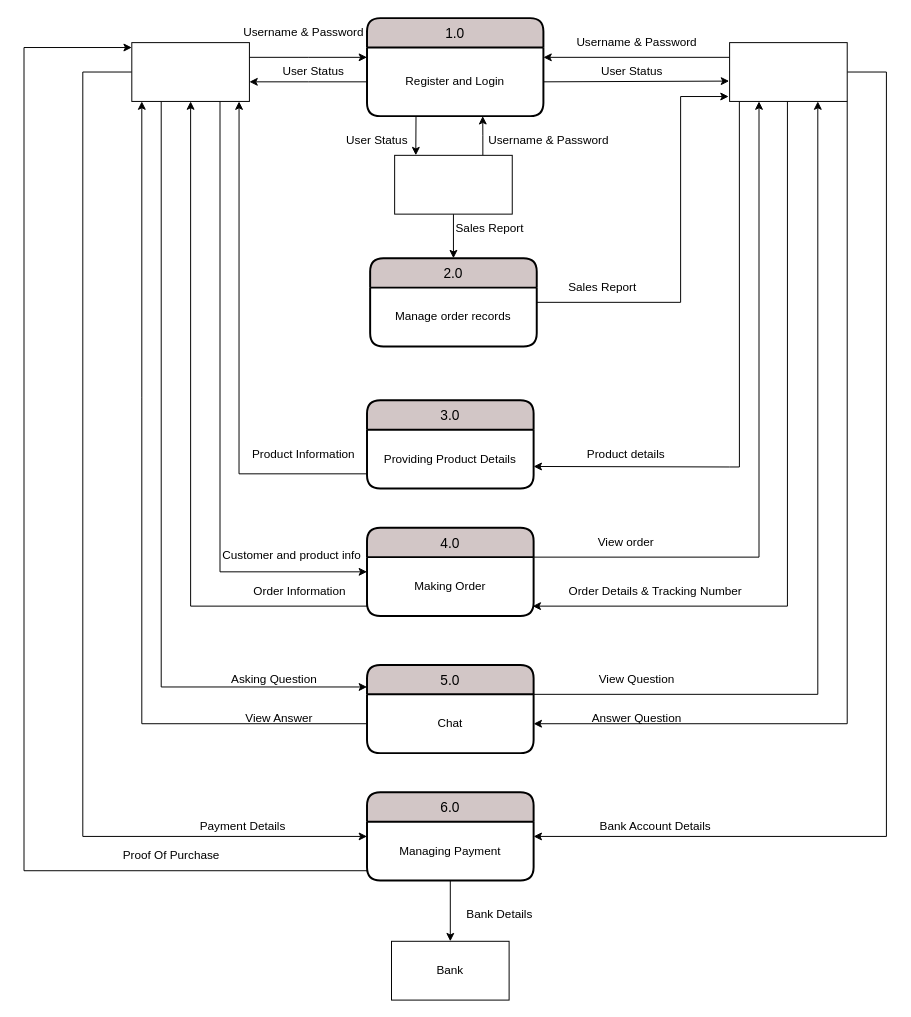
This 911x1017 diagram has some shape labels left out. The centre of each missing label's shape, as x and y in pixels:
"Admin" belongs at point 453,184.
"Customer" belongs at point 190,71.
"Seller" belongs at point 788,71.
